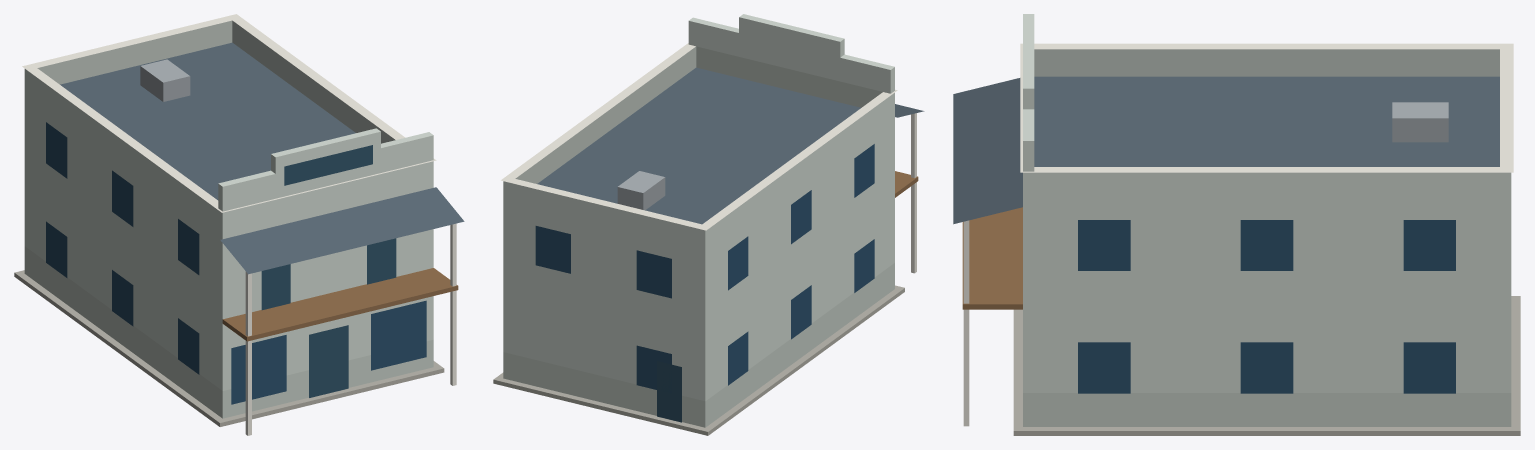
The model's file is shop_8x13_2f_lod1.glb.
The picture shows the model from 3 angles, left to right: view 1: azimuth 30°, elevation 25°; view 2: azimuth 150°, elevation 25°; view 3: azimuth 270°, elevation 25°; orthographic projection. The views are drawn at different scales.
Parts seen in each view (by area): view 1: block; view 2: block; view 3: block.
Boxes of the visible parts, x1,y1,x2,y2 form: block: [14, 14, 464, 435]; block: [493, 14, 924, 435]; block: [953, 14, 1520, 435].
Size of the model in its own units: 8.5 by 9.15 by 15.1.
